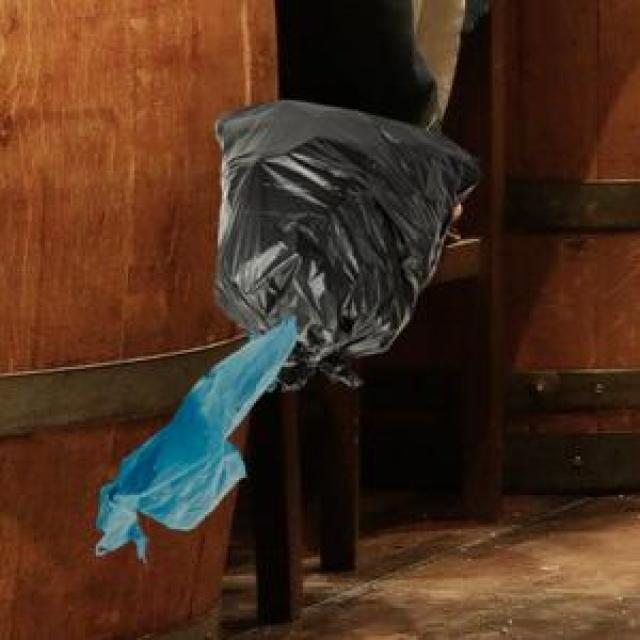miscellaneous trash: (211, 96, 478, 386)
